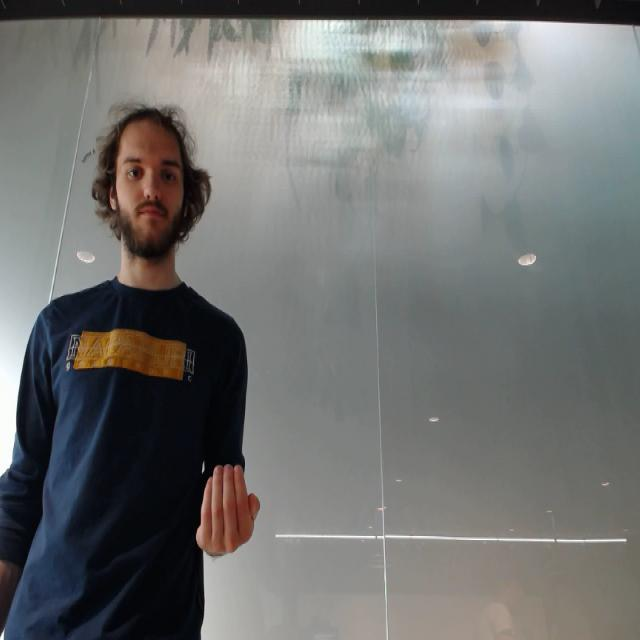forward: (194, 460, 263, 561)
